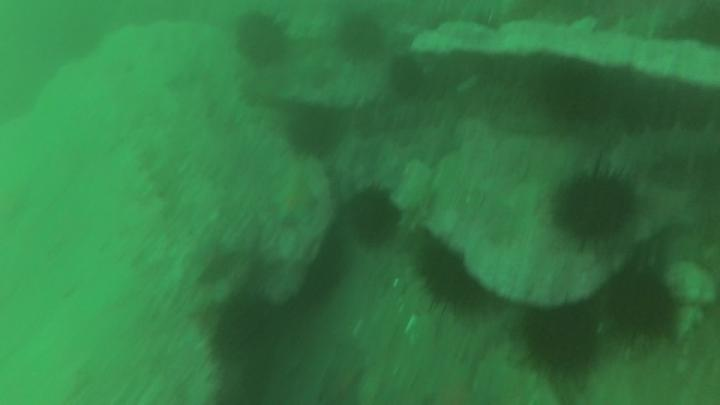echinus: (609, 270, 676, 345), (563, 173, 628, 242), (213, 292, 274, 363), (528, 311, 596, 373), (545, 62, 607, 122), (419, 246, 479, 306), (352, 186, 400, 245), (238, 16, 292, 63), (289, 110, 339, 160), (335, 15, 385, 62), (391, 58, 422, 95)
holothurian: (614, 128, 720, 177)
starfish: (322, 354, 369, 400), (272, 179, 320, 222), (412, 126, 461, 168)
